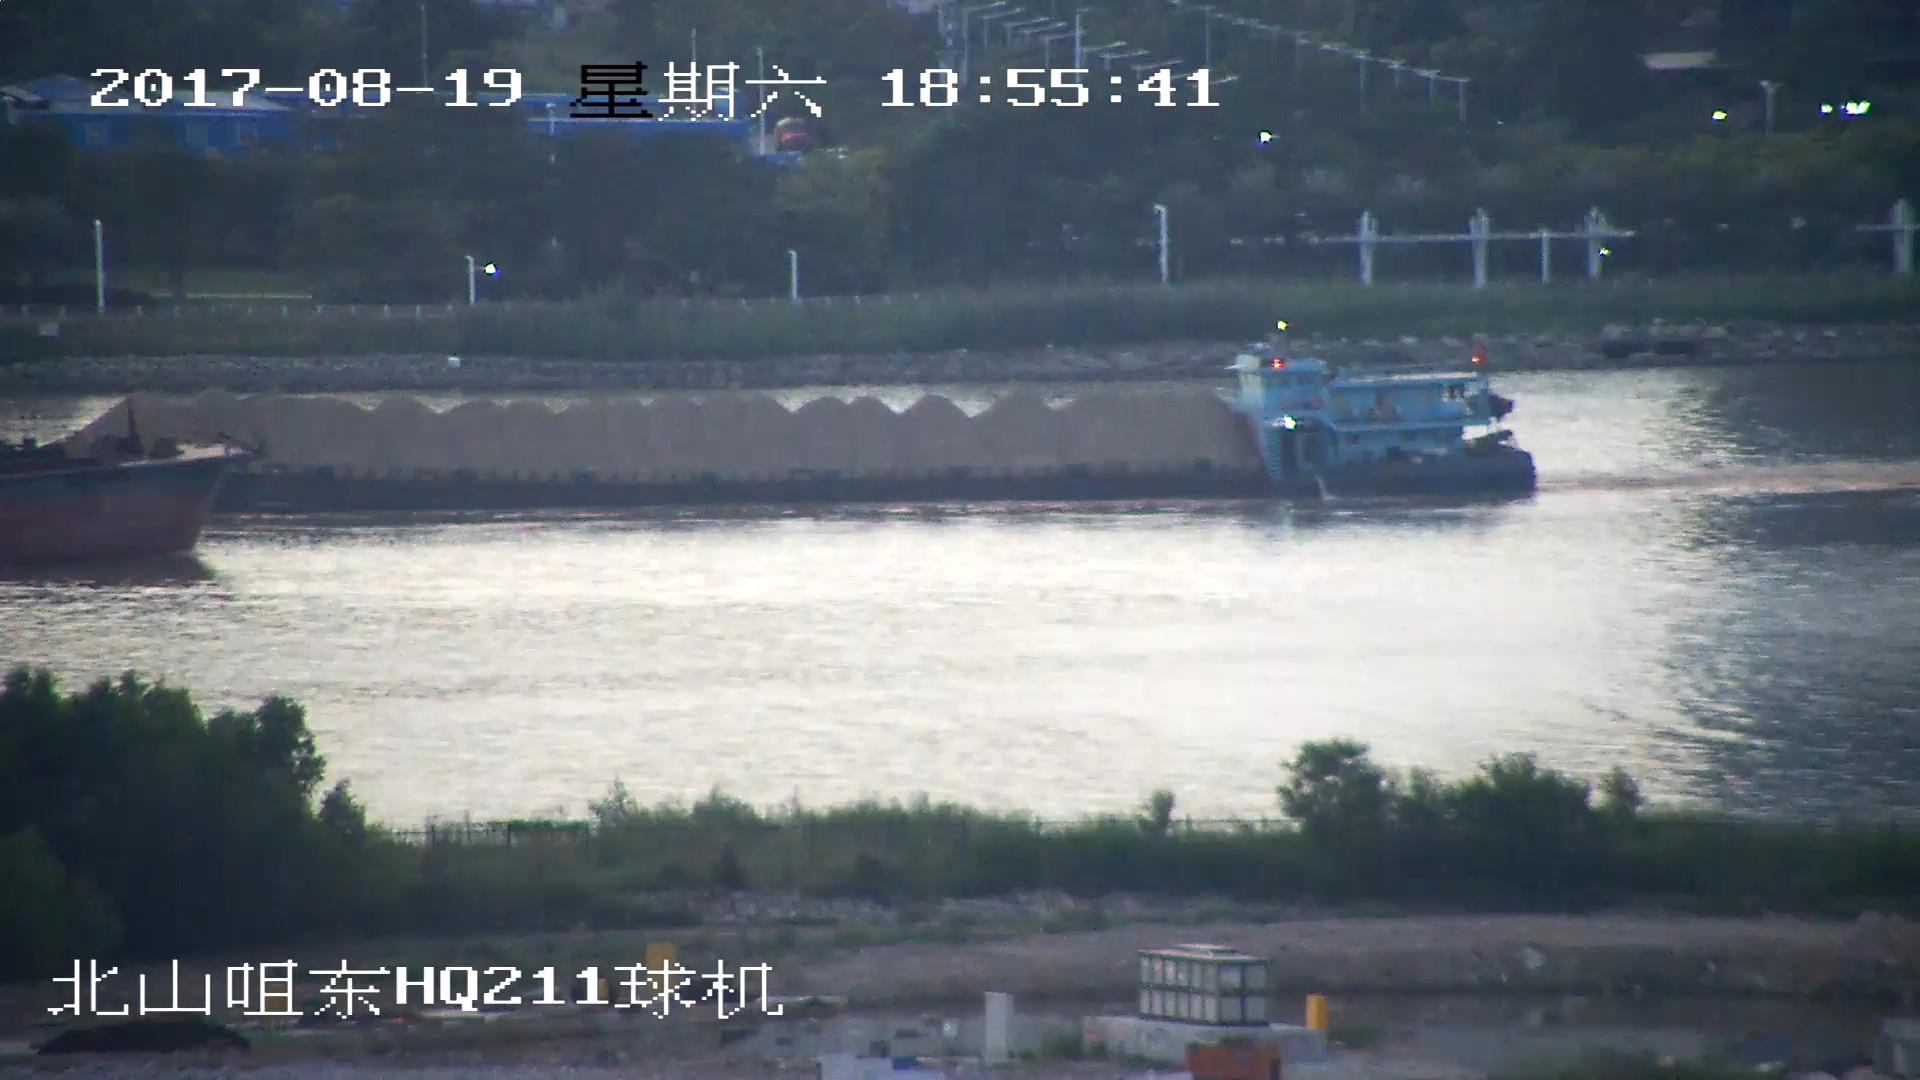bulk cargo carrier: (1, 426, 242, 557)
ore carrier: (1, 352, 1535, 512)
